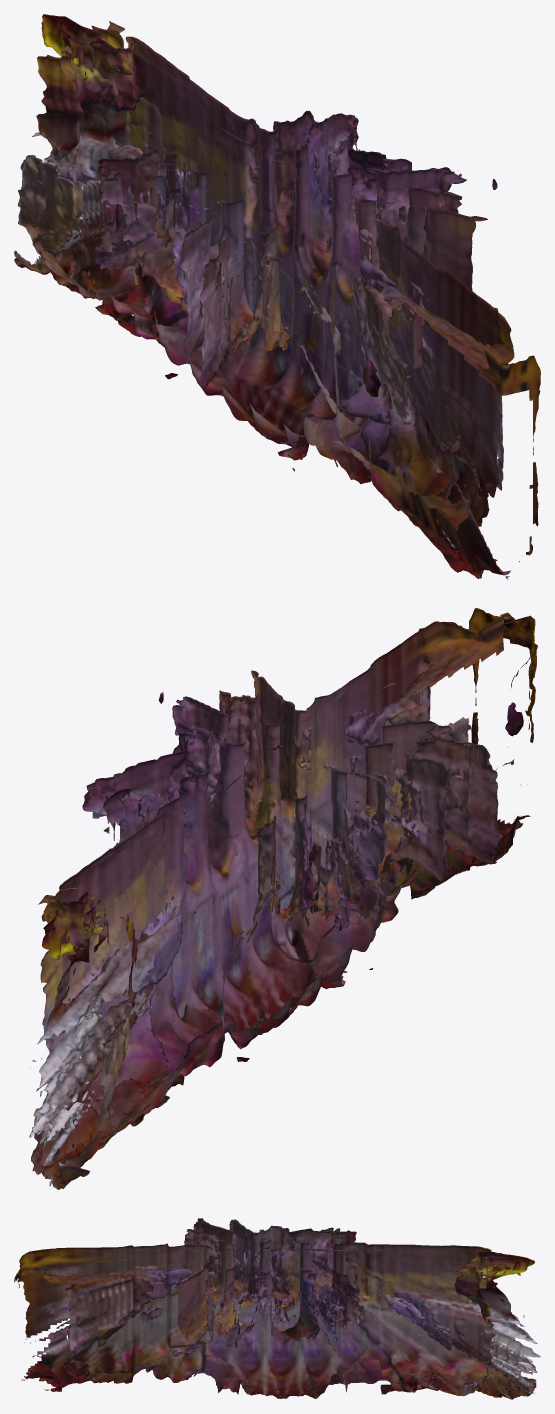
The model's file is collider.glb.
The picture shows the model from 3 angles, top to bottom: view 1: azimuth 30°, elevation 25°; view 2: azimuth 150°, elevation 25°; view 3: azimuth 270°, elevation 25°; orthographic projection. The views are drawn at different scales.
Parts seen in each view (by area): view 1: world; view 2: world; view 3: world.
Boxes of the visible parts, left/top/right/bottom form: world: left=14, top=14, right=540, bottom=579; world: left=29, top=608, right=537, bottom=1189; world: left=14, top=1218, right=540, bottom=1399.
Bounding box in the file's own units: 18.15 × 13.81 × 44.29.
